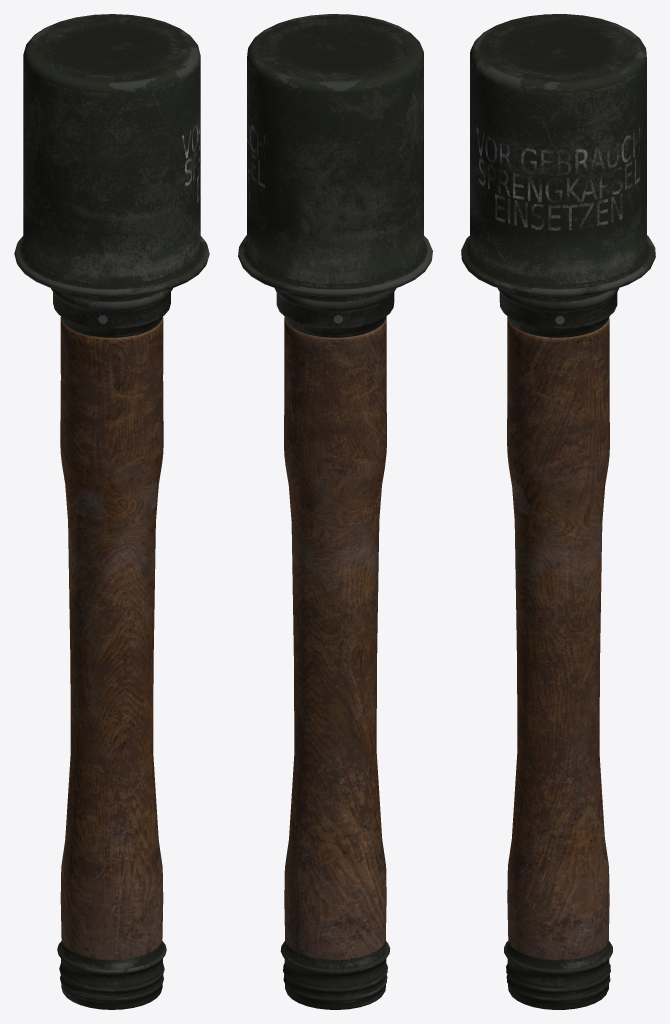
The model's file is m24_stick_grenade.glb.
3 renders of one model, left to right at view 1: azimuth 30°, elevation 25°; view 2: azimuth 150°, elevation 25°; view 3: azimuth 270°, elevation 25°, orthographic.
Visible parts, largest first — view 1: low-poly; view 2: low-poly; view 3: low-poly.
Part boxes in pixels (x1,y1,x2,y2): low-poly: [14, 14, 209, 1009]; low-poly: [238, 14, 432, 1009]; low-poly: [461, 14, 655, 1009].
Size of the model in its own units: 0.0861 by 0.4589 by 0.0861.
1 material, 1 textured.
